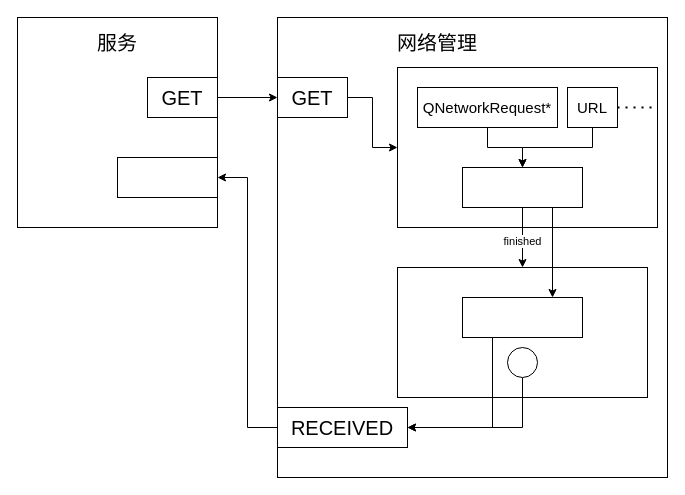
The diagram is 685 pixels wide and 495 high, and some of its shapes have lost their labels. The shapes that lost their labels are listed below. From the top down, each one's centre as x and y in pixels, then its label:
[167,177]: UPDATE
[522,187]: QNetworkReply*
[522,317]: QByteArray
